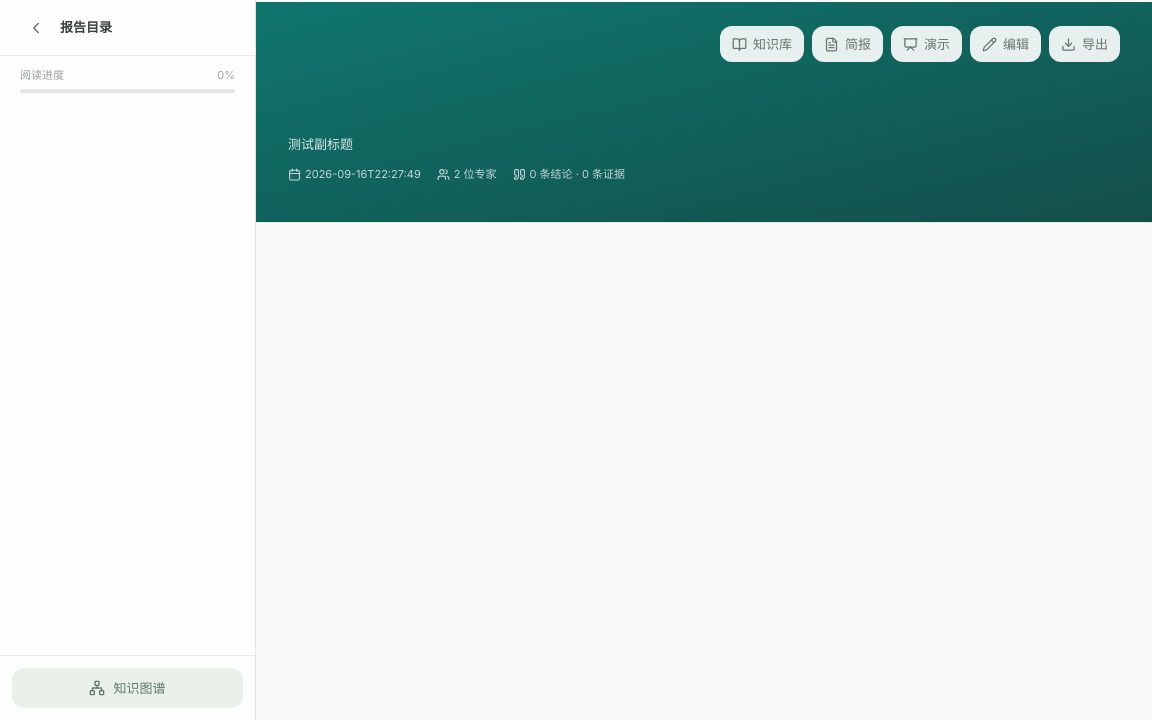
Test: ReportPage 英雄区 · 操作行接线 › H12 — 点「编辑」→ 文案切「阅读」，再点切回
Click the button "编辑" at x=1006, y=44, box [970, 26, 1041, 62]
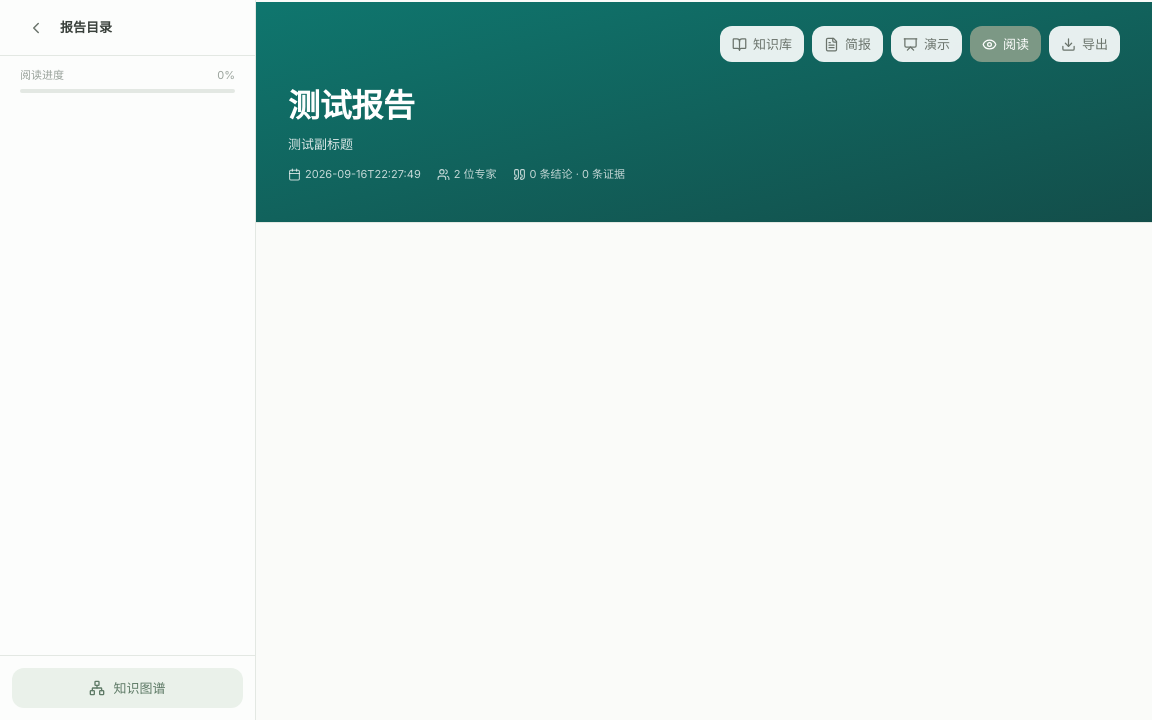
Expected: the button "阅读" is shown
Click the button "阅读" at x=1006, y=44, box [970, 26, 1041, 62]
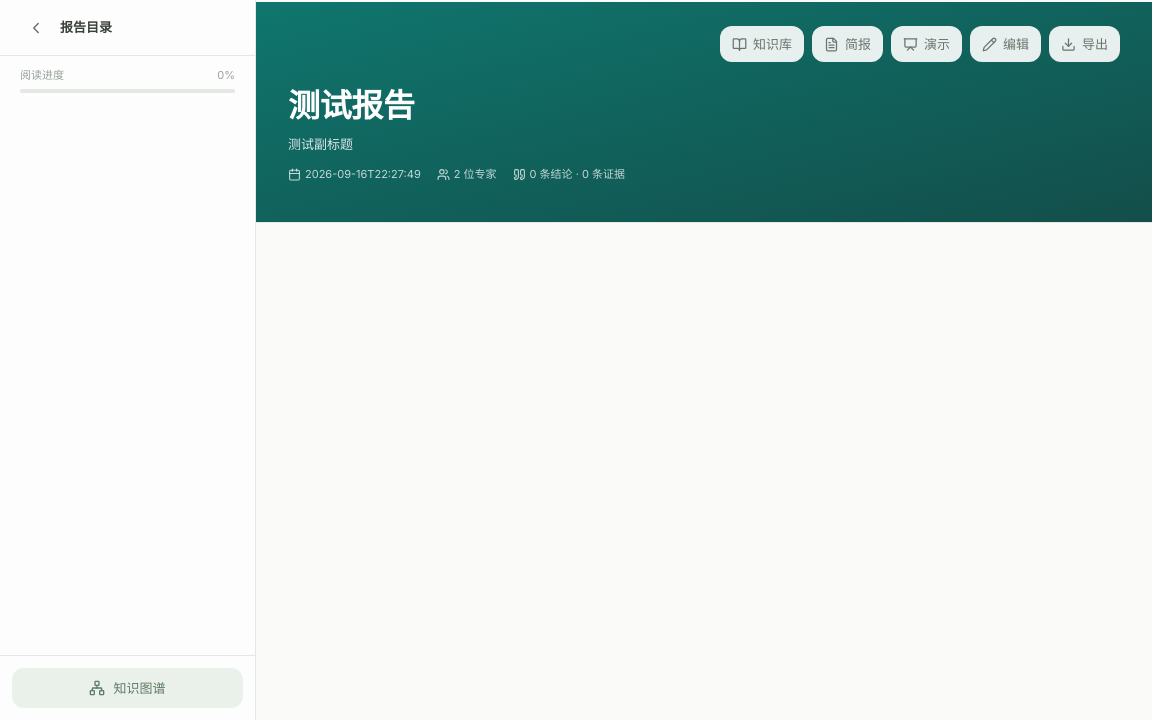
Expected: the button "编辑" is shown, [970, 26, 1041, 62]
